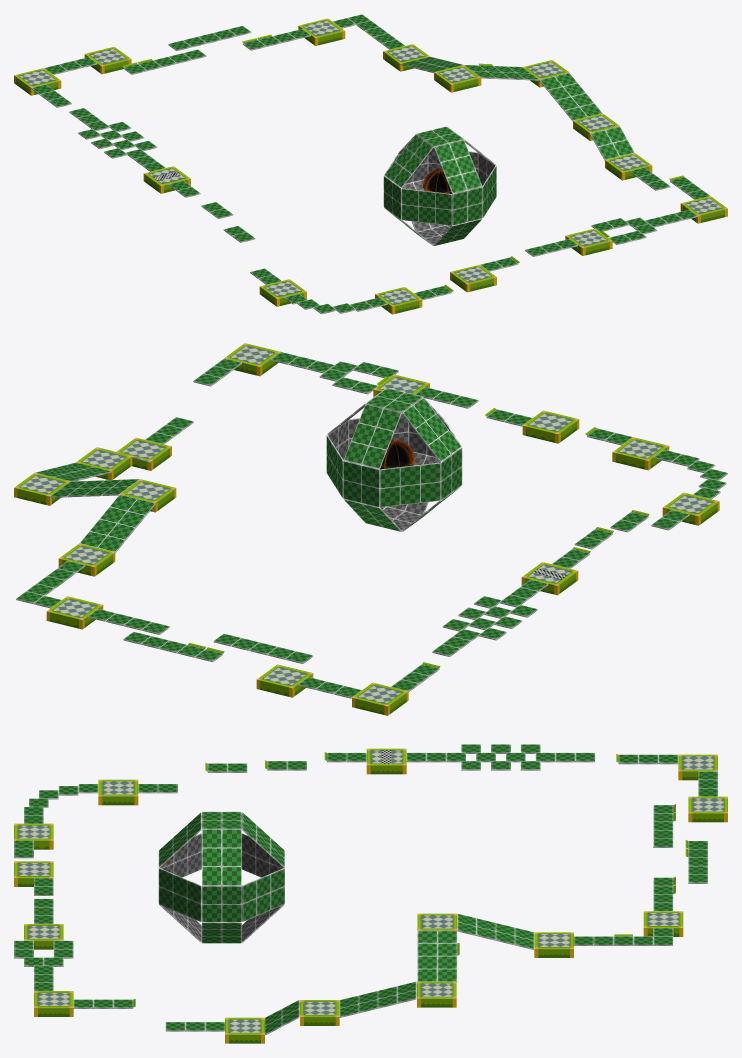
3 views of the same model, one above another, from view 1: azimuth 30°, elevation 25°; view 2: azimuth 150°, elevation 25°; view 3: azimuth 270°, elevation 25° (orthographic). The views are drawn at different scales.
Visible parts, largest first — view 1: 3.003, 2.003, 1.004, 5.003, 4.003; view 2: 3.003, 2.003, 1.004, 5.003, 4.003; view 3: 3.003, 2.003, 1.004, 5.003.
Boxes of the visible parts, x1,y1,x2,y2 form: 3.003: (31,14,709,314); 2.003: (14,18,727,314); 1.004: (15,27,724,313); 5.003: (390,141,495,244); 4.003: (423,169,451,193); 3.003: (16,352,727,698); 2.003: (14,343,719,715); 1.004: (17,359,717,714); 5.003: (132,405,453,530); 4.003: (379,439,414,469); 3.003: (14,744,717,1035); 2.003: (14,748,727,1043); 1.004: (18,752,723,1043); 5.003: (160,833,283,941).
Bounding box in the file's own units: 117011 × 25471 × 143729.
6 materials, 6 textured.
